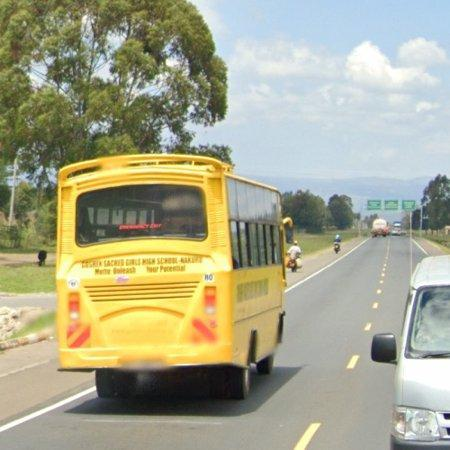buses: (56, 155, 286, 398)
